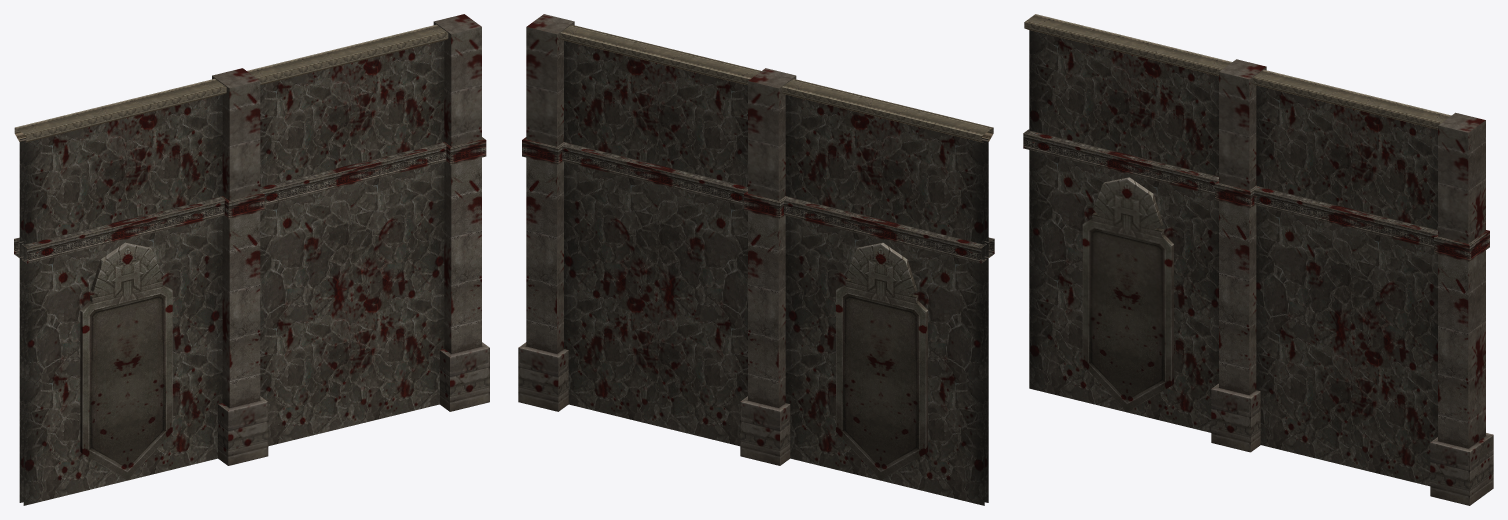
Rendered from blsd_shiqiang_01.FBX.
The picture shows the model from 3 angles, left to right: view 1: azimuth 30°, elevation 25°; view 2: azimuth 150°, elevation 25°; view 3: azimuth 330°, elevation 25°; orthographic projection.
Visible parts, largest first — view 1: blsd_shiqiang_01; view 2: blsd_shiqiang_01; view 3: blsd_shiqiang_01.
Part boxes in pixels (<box>): blsd_shiqiang_01: <box>14,14,489,505</box>; blsd_shiqiang_01: <box>518,14,994,505</box>; blsd_shiqiang_01: <box>1023,14,1493,505</box>.
Bounding box in the file's own units: 641 × 501 × 58.71.
